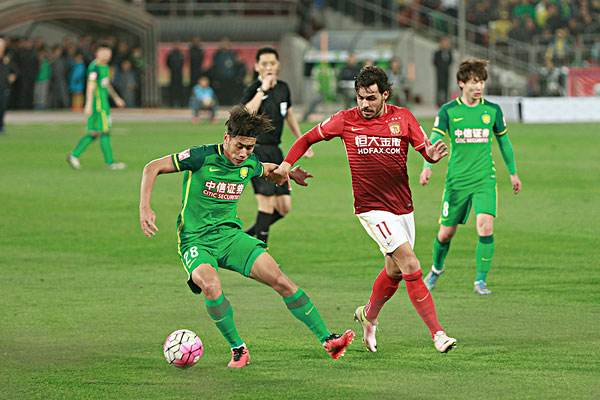football: (163, 329, 205, 370)
